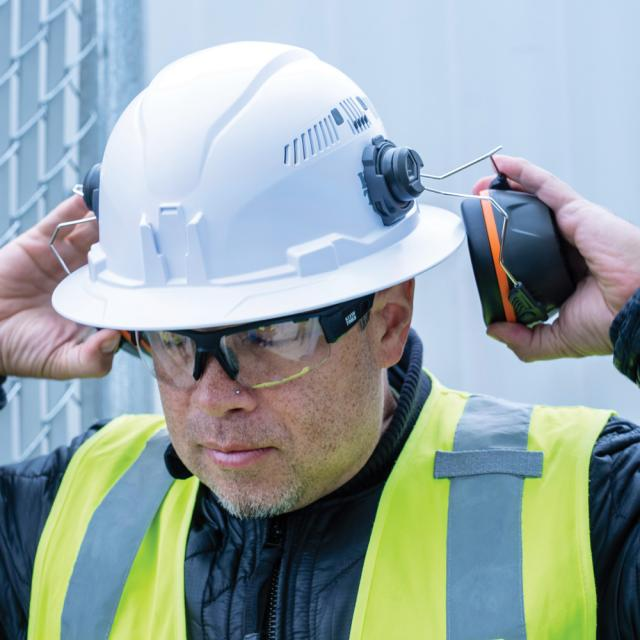Ear Muffs: (461, 161, 596, 329)
Hard Hat: (52, 30, 468, 332)
Reflective Vest: (23, 382, 617, 640)
Safety Glasses: (137, 289, 381, 393)
